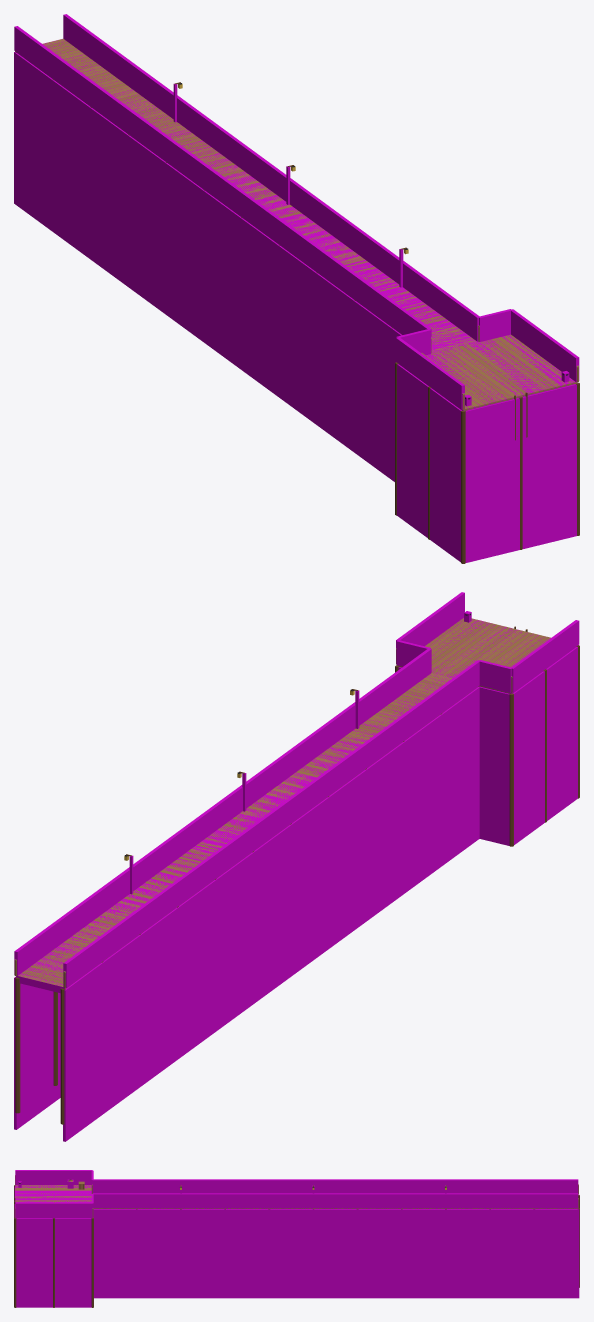
Rendered from pier.glb.
The picture shows the model from 3 angles, top to bottom: view 1: azimuth 30°, elevation 25°; view 2: azimuth 150°, elevation 25°; view 3: azimuth 270°, elevation 25°; orthographic projection. The views are drawn at different scales.
Parts seen in each view (by area): view 1: COLP_pier, pier, COL_pier; view 2: COLP_pier, pier, COL_pier; view 3: COLP_pier, pier, COL_pier.
Part boxes in pixels (x1,y1,x2,y2): COLP_pier: (14,14,579,562); pier: (15,38,579,563); COL_pier: (16,39,577,410); COLP_pier: (14,592,579,1141); pier: (14,613,579,1124); COL_pier: (16,618,575,993); COLP_pier: (14,1170,579,1307); pier: (14,1175,579,1307); COL_pier: (15,1179,578,1218).
Size of the model in its own units: 7.23 by 11.23 by 51.27.
